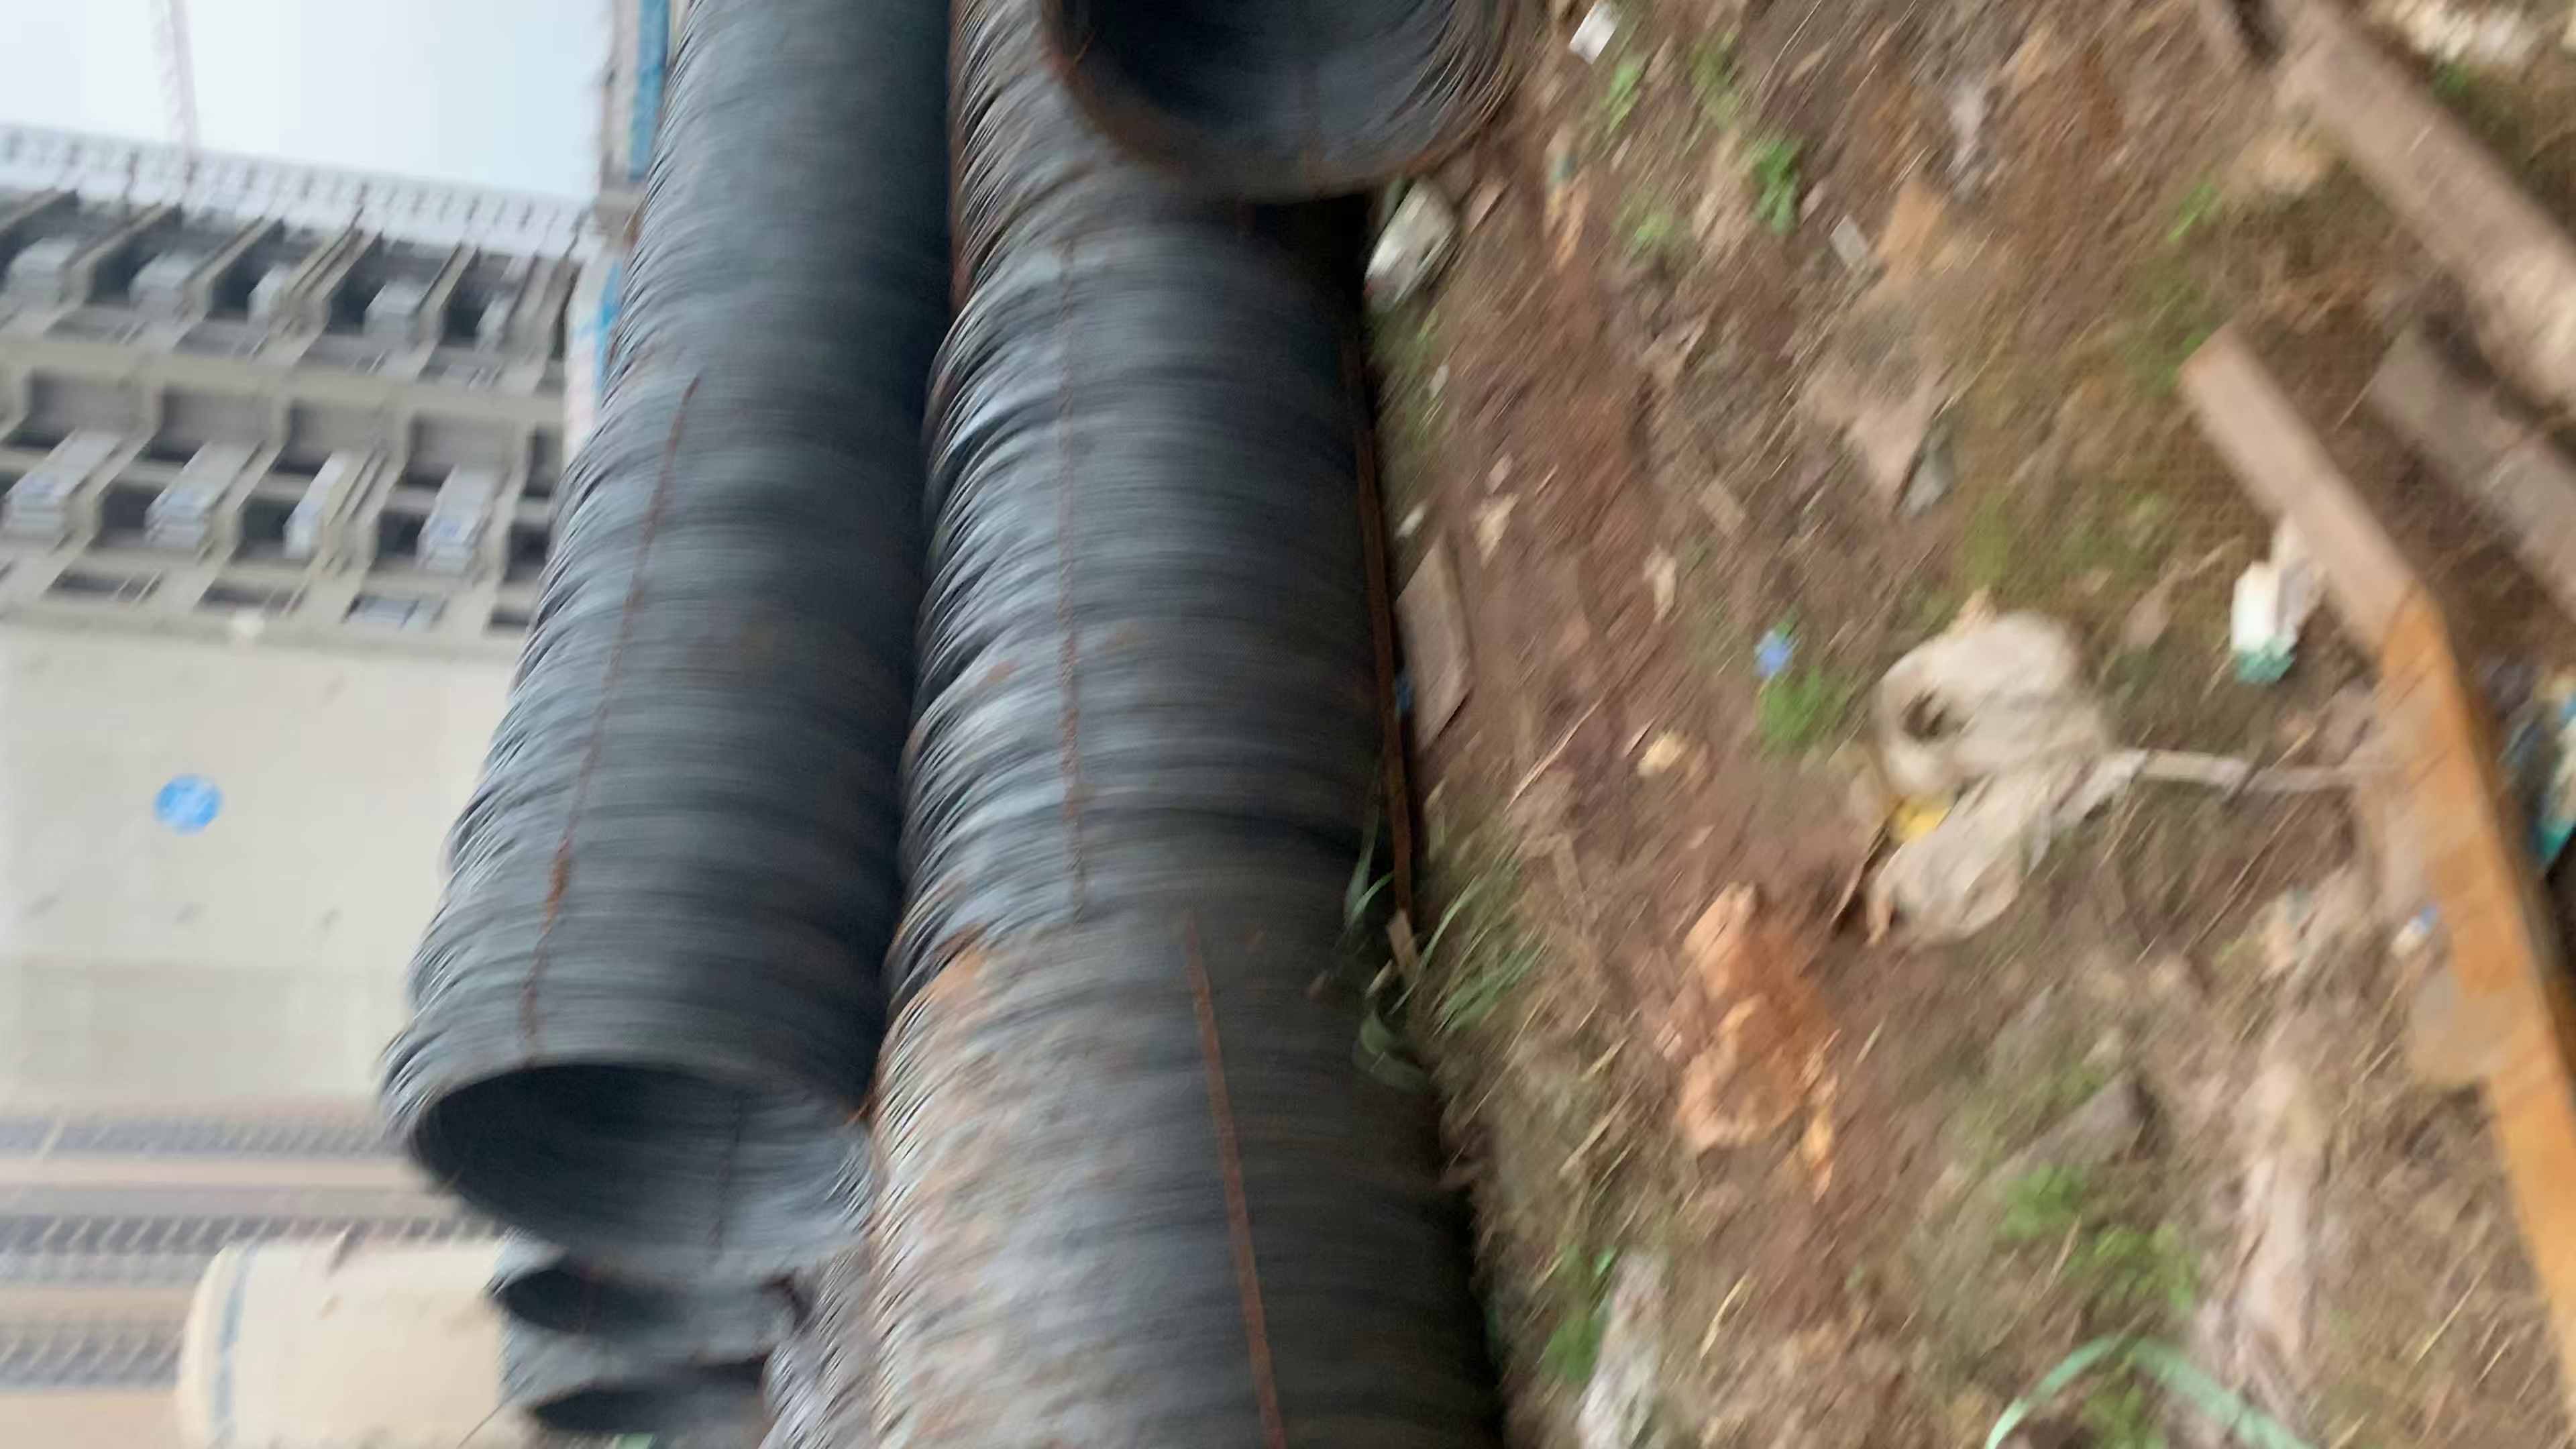coil: (874, 954, 1532, 1449), (922, 260, 1433, 846), (368, 1035, 870, 1288), (1039, 7, 1548, 209), (476, 1260, 807, 1371), (513, 1368, 786, 1445)
